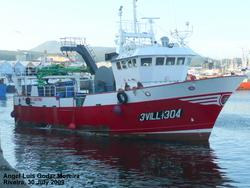otherboat: (9, 1, 247, 135)
